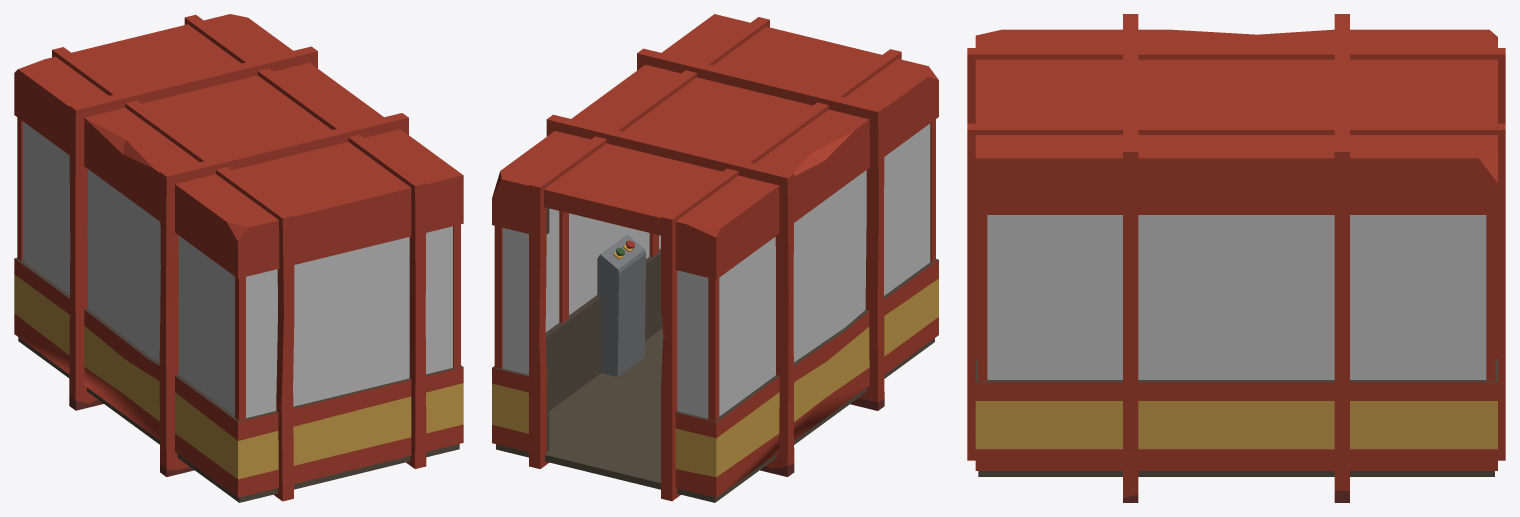
Rendered from SM_Prop_Elevator_01.fbx.
The picture shows the model from 3 angles, left to right: view 1: azimuth 30°, elevation 25°; view 2: azimuth 150°, elevation 25°; view 3: azimuth 270°, elevation 25°; orthographic projection. The views are drawn at different scales.
Visible parts, largest first — view 1: SM_Prop_Elevator_01, SM_Prop_Elevator_01_Mesh; view 2: SM_Prop_Elevator_01, SM_Prop_Elevator_01_Mesh; view 3: SM_Prop_Elevator_01, SM_Prop_Elevator_01_Mesh.
Boxes of the visible parts, x1=… form: SM_Prop_Elevator_01: x1=14, y1=14, x2=463, y2=502; SM_Prop_Elevator_01_Mesh: x1=23, y1=121, x2=452, y2=418; SM_Prop_Elevator_01: x1=492, y1=14, x2=938, y2=502; SM_Prop_Elevator_01_Mesh: x1=502, y1=123, x2=930, y2=418; SM_Prop_Elevator_01: x1=967, y1=14, x2=1505, y2=502; SM_Prop_Elevator_01_Mesh: x1=987, y1=215, x2=1486, y2=379.
Size of the model in its own units: 213 by 252 by 351.
